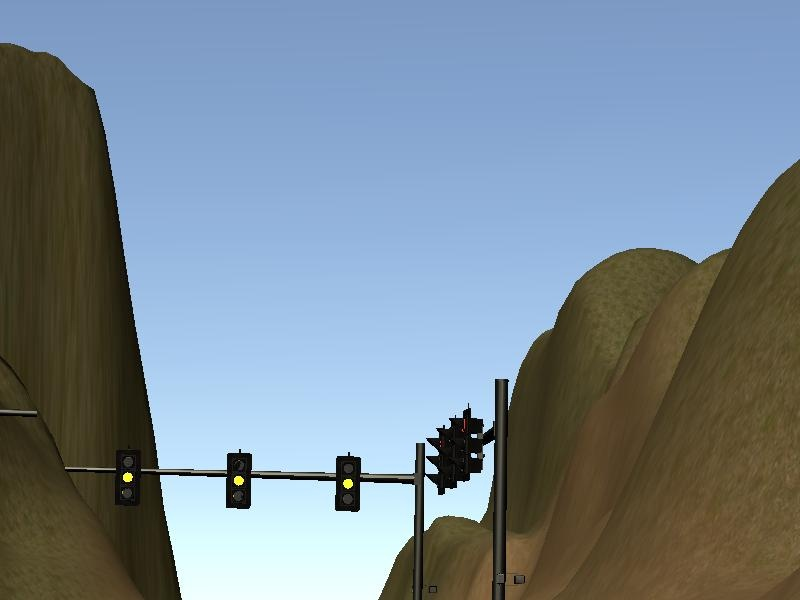yellow: (109, 442, 144, 509), (221, 446, 256, 513), (331, 447, 363, 516)
